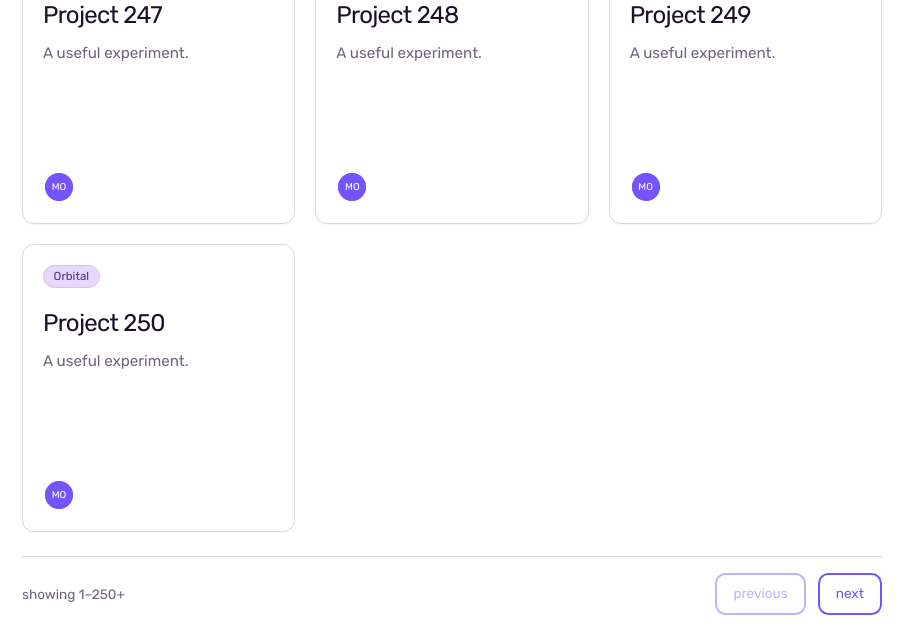
Test: clickable project routes › resets pagination when the group filter changes
(page scrolled)
Click the button "next": (850, 594) x1=818 y1=573 x2=882 y2=615
(page scrolled)
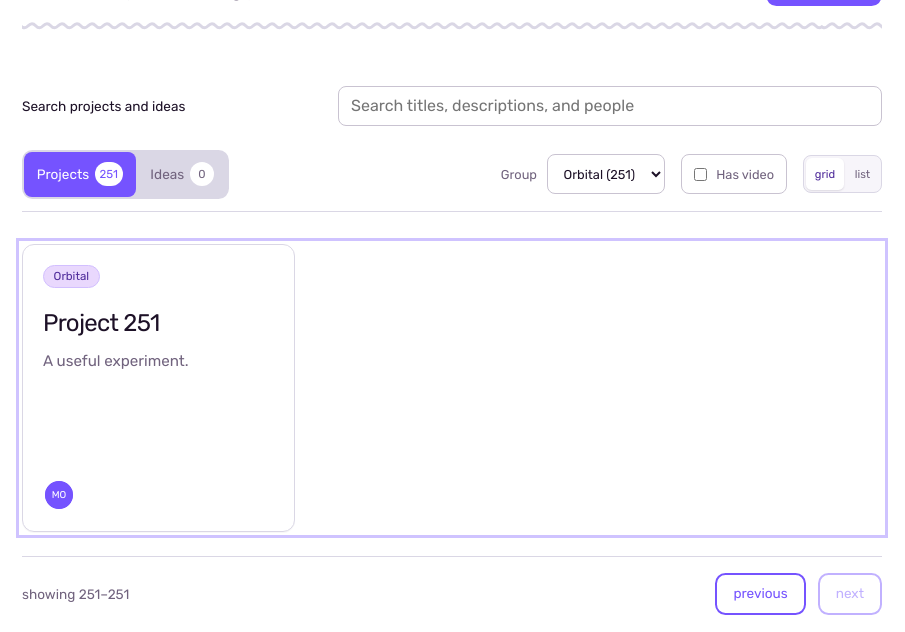
Expected: the heading "Project 251" is shown, x1=43 y1=309 x2=160 y2=337
Select "Lunar (1)" in the dropdown labelled "Group": (606, 174) x1=547 y1=154 x2=665 y2=194
(page scrolled)
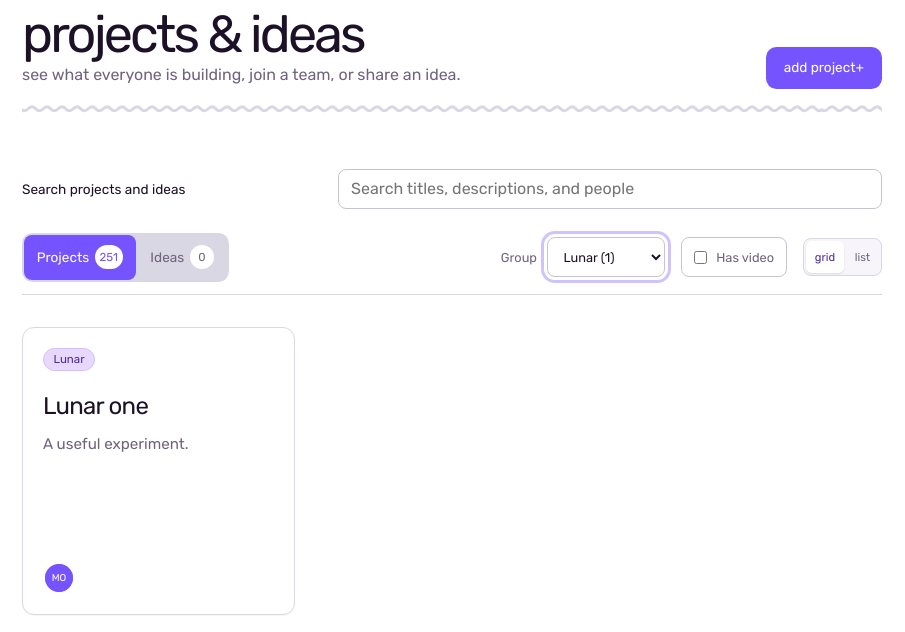
Expected: the heading "Lunar one" is shown, x1=43 y1=392 x2=148 y2=420
